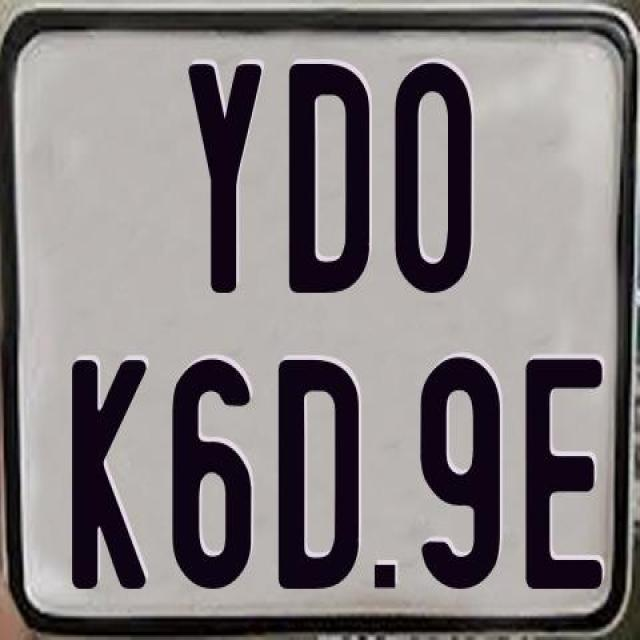0: (390, 62, 474, 296)
6: (169, 357, 251, 592)
9: (418, 357, 506, 590)
D: (286, 59, 374, 293), (277, 355, 360, 587)
E: (524, 358, 607, 592)
K: (72, 358, 147, 590)
Y: (186, 61, 262, 292)
